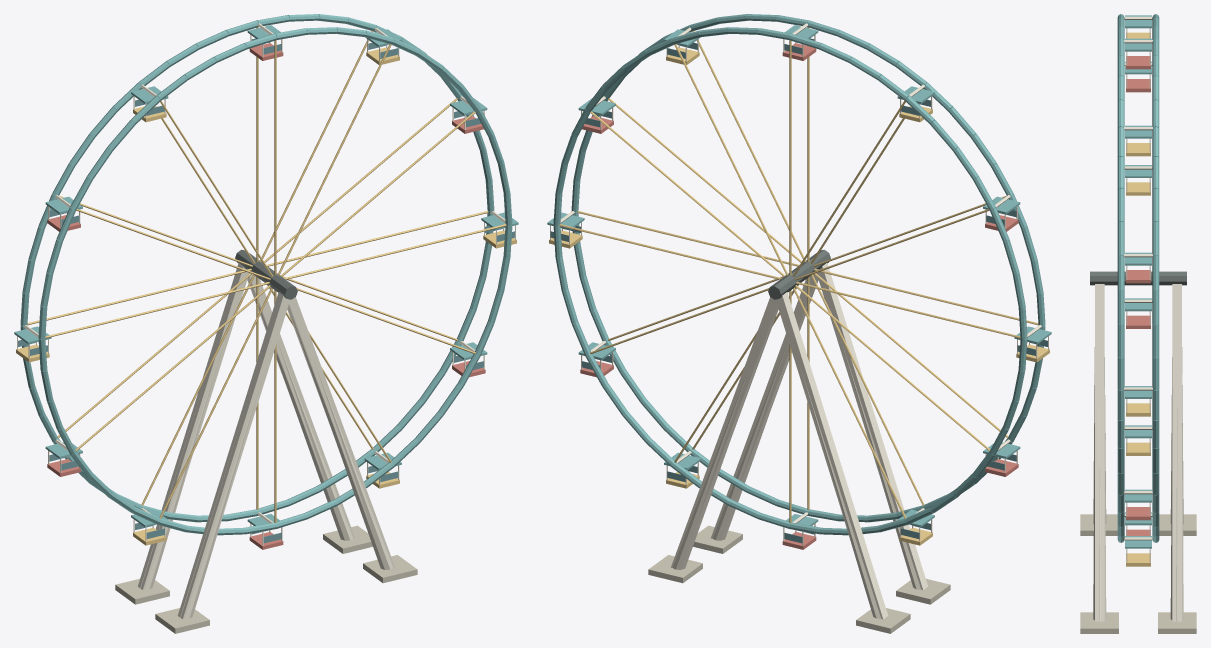
Rendered from observation-wheel.glb.
3 renders of one model, left to right at view 1: azimuth 30°, elevation 25°; view 2: azimuth 150°, elevation 25°; view 3: azimuth 270°, elevation 25°, orthographic. The views are drawn at different scales.
Size of the model in its own units: 56.7 by 62.08 by 12.
